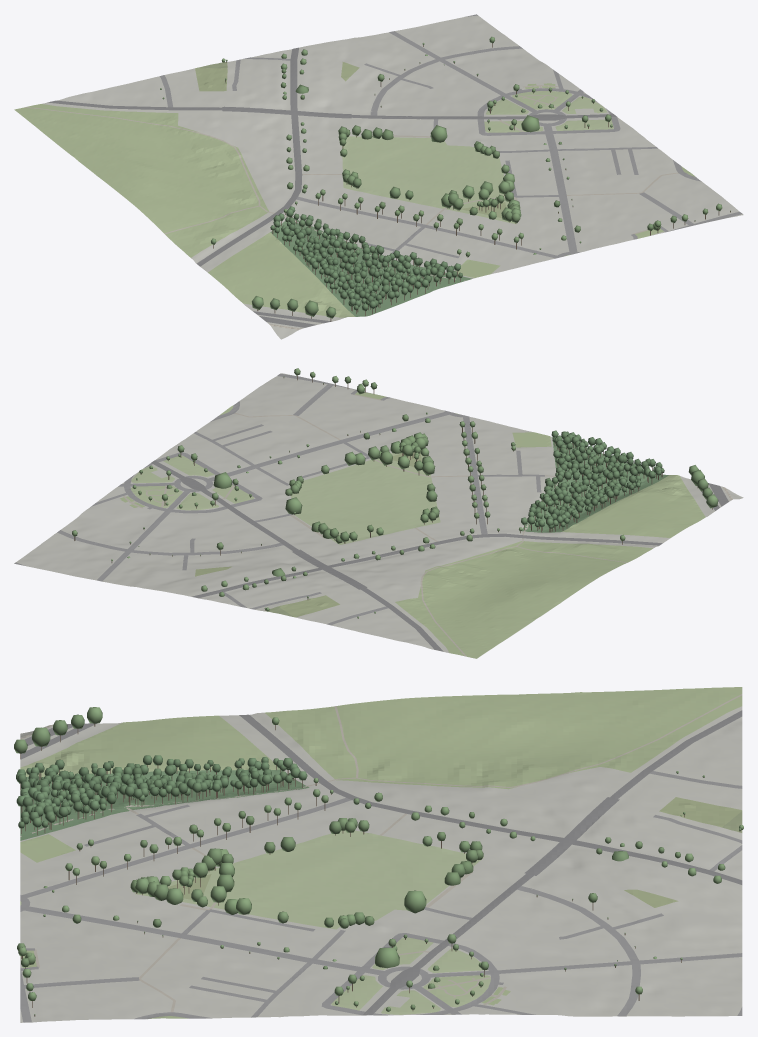
The picture shows the model from 3 angles, top to bottom: view 1: azimuth 30°, elevation 25°; view 2: azimuth 150°, elevation 25°; view 3: azimuth 270°, elevation 25°; orthographic projection. The views are drawn at different scales.
Visible parts, largest first — view 1: t00_15_terrain, way/164190815@t00_15, way/94475116@t00_15, way/323845303@t00_15_canopy, t00_15_roads_minor, t00_15_trees_mapped, way/312146371@t00_15, t00_15_roads_major, way/323845303@t00_15, t00_15_roads_path, way/341028809@t00_15, way/648278302@t00_15; view 2: t00_15_terrain, way/164190815@t00_15, way/94475116@t00_15, t00_15_roads_minor, t00_15_trees_mapped, way/323845303@t00_15_canopy, way/312146371@t00_15, t00_15_roads_major, way/323845303@t00_15, t00_15_roads_path, way/648278302@t00_15, way/341028809@t00_15 (+2 smaller); view 3: t00_15_terrain, way/164190815@t00_15, way/94475116@t00_15, t00_15_roads_minor, t00_15_trees_mapped, way/323845303@t00_15_canopy, way/312146371@t00_15, t00_15_roads_major, way/323845303@t00_15, t00_15_roads_path, way/648278302@t00_15, way/341028809@t00_15 (+5 smaller).
Boxes of the visible parts, bbox=[...] form: t00_15_terrain: bbox=[26, 15, 743, 339]; way/164190815@t00_15: bbox=[14, 104, 268, 257]; way/94475116@t00_15: bbox=[342, 136, 516, 224]; way/323845303@t00_15_canopy: bbox=[270, 206, 462, 316]; t00_15_roads_minor: bbox=[160, 14, 742, 258]; t00_15_trees_mapped: bbox=[160, 36, 730, 321]; way/312146371@t00_15: bbox=[208, 232, 355, 317]; t00_15_roads_major: bbox=[47, 47, 616, 327]; way/323845303@t00_15: bbox=[270, 217, 472, 316]; t00_15_roads_path: bbox=[24, 85, 678, 329]; way/341028809@t00_15: bbox=[512, 91, 572, 109]; way/648278302@t00_15: bbox=[195, 68, 227, 91]; t00_15_terrain: bbox=[14, 373, 743, 652]; way/164190815@t00_15: bbox=[395, 541, 652, 658]; way/94475116@t00_15: bbox=[290, 450, 440, 544]; t00_15_roads_minor: bbox=[14, 373, 544, 625]; t00_15_trees_mapped: bbox=[72, 368, 718, 618]; way/323845303@t00_15_canopy: bbox=[521, 430, 664, 532]; way/312146371@t00_15: bbox=[562, 475, 705, 537]; t00_15_roads_major: bbox=[151, 460, 728, 651]; way/323845303@t00_15: bbox=[522, 437, 668, 532]; t00_15_roads_path: bbox=[123, 394, 732, 656]; way/648278302@t00_15: bbox=[278, 595, 339, 617]; way/341028809@t00_15: bbox=[131, 485, 182, 507]; t00_15_terrain: bbox=[20, 706, 742, 1022]; way/164190815@t00_15: bbox=[265, 687, 742, 789]; way/94475116@t00_15: bbox=[134, 830, 483, 929]; t00_15_roads_minor: bbox=[20, 771, 742, 1022]; t00_15_trees_mapped: bbox=[14, 707, 743, 1016]; way/323845303@t00_15_canopy: bbox=[16, 755, 307, 835]; way/312146371@t00_15: bbox=[20, 715, 279, 776]; t00_15_roads_major: bbox=[20, 710, 742, 1015]; way/323845303@t00_15: bbox=[20, 769, 309, 840]; t00_15_roads_path: bbox=[20, 694, 742, 1012]; way/648278302@t00_15: bbox=[659, 797, 742, 827]; way/341028809@t00_15: bbox=[423, 975, 490, 1007].
Bounding box in the file's own units: 501 × 37.01 × 506.
